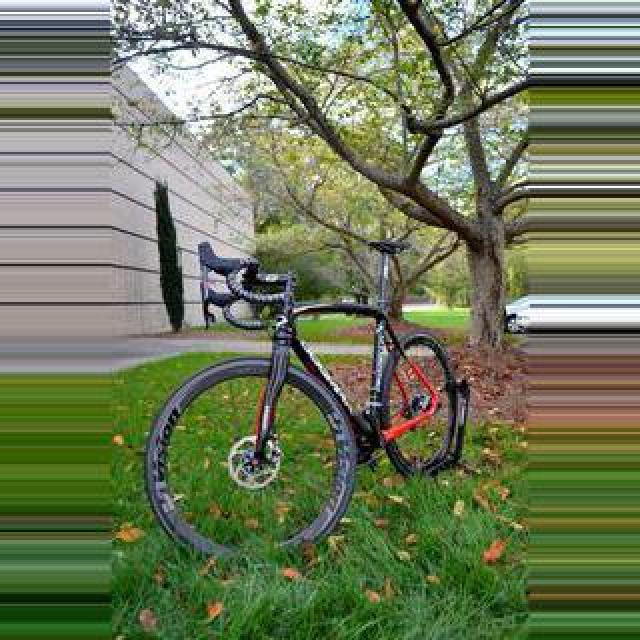Person: (150, 229, 472, 569)
